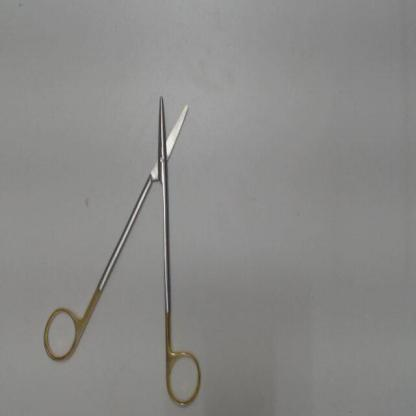7 Metzenbaum Scissors: (40, 85, 206, 412)
